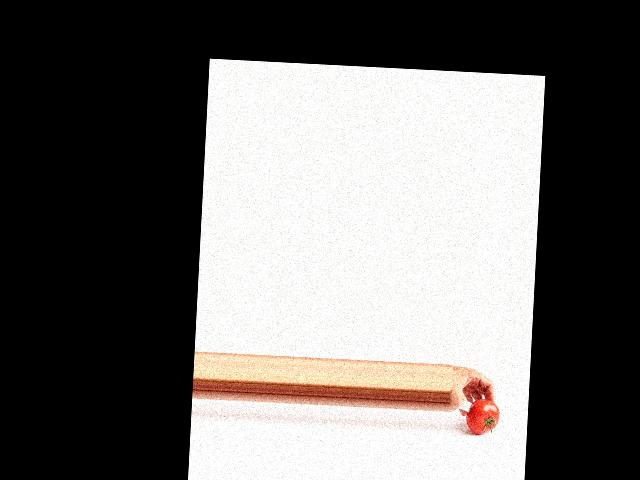tomato: (465, 398, 500, 435)
